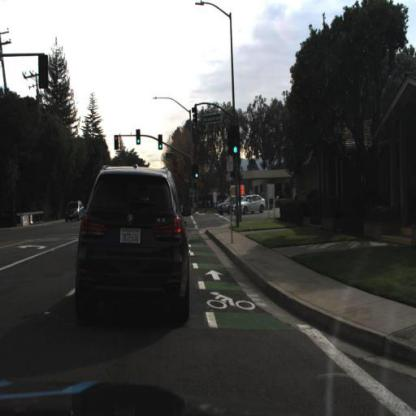car: (71, 154, 195, 332), (231, 193, 266, 217), (64, 198, 84, 223)
trafficLight: (111, 130, 121, 156)
trafficLight-Green: (227, 123, 242, 163), (157, 134, 162, 149), (194, 167, 199, 181), (136, 129, 140, 143)
